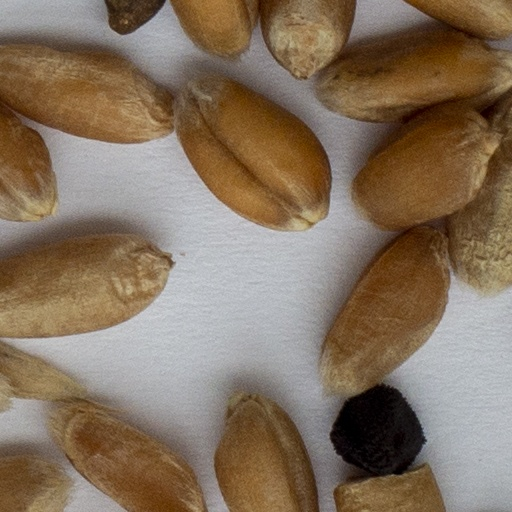Agrostemma-poly: (325, 381, 429, 473)
Wheat-grain-damaged-poly: (333, 464, 444, 511)
